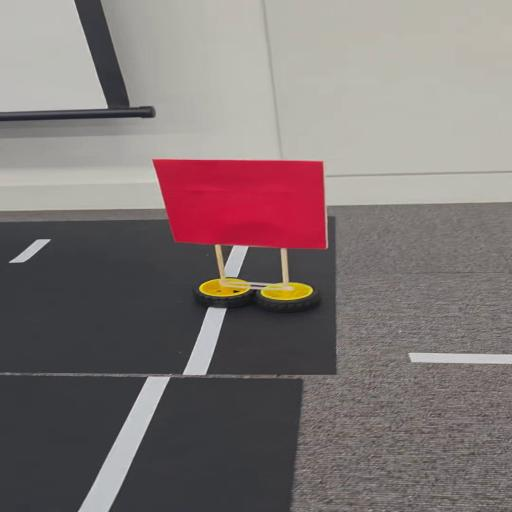Sign_A: (147, 153, 368, 319)
